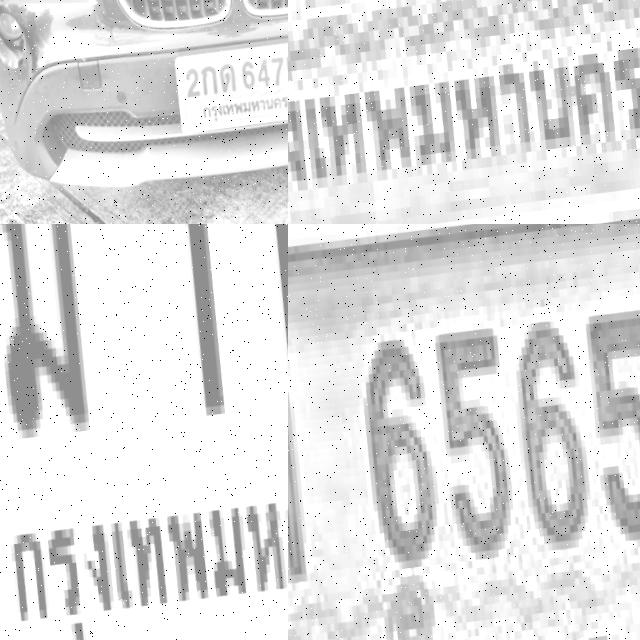license-plate: (288, 224, 640, 640), (0, 224, 288, 640), (288, 0, 640, 224), (173, 32, 288, 137)
